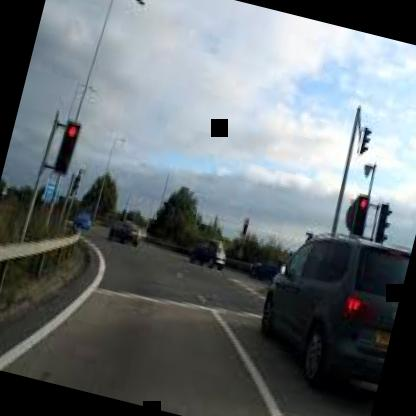car: (211, 192, 416, 416), (97, 196, 162, 266), (183, 214, 236, 281), (66, 198, 106, 247)
